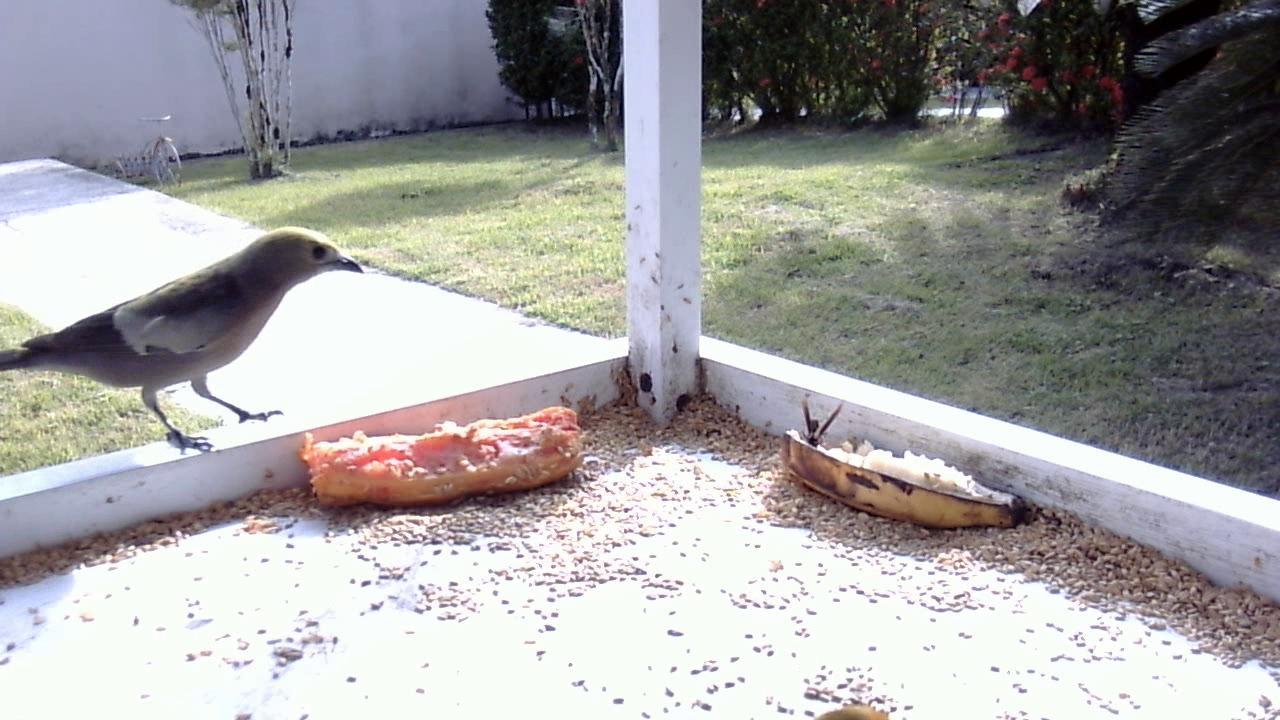sanhaco_do_coqueiro: (6, 214, 362, 483)
